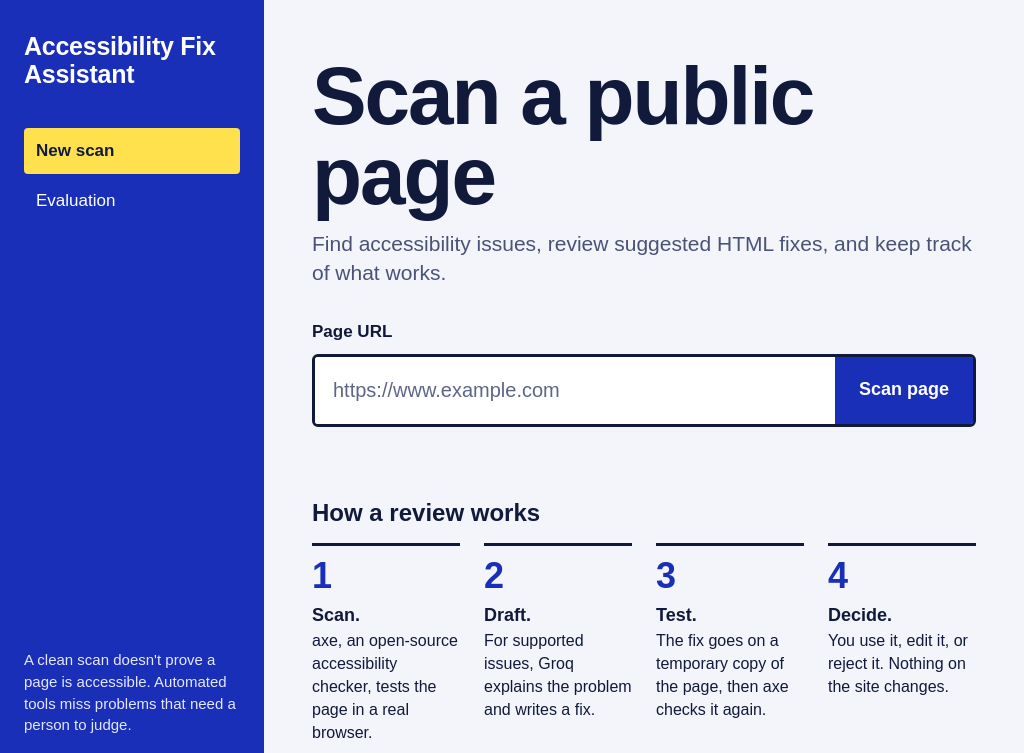
Test: new scan › shows the API's error for a blocked URL
Type "http://localhost:8000" into the field labelled "Page URL".
click(575, 390); type("http://localhost:8000")  # box [315,357,835,424]
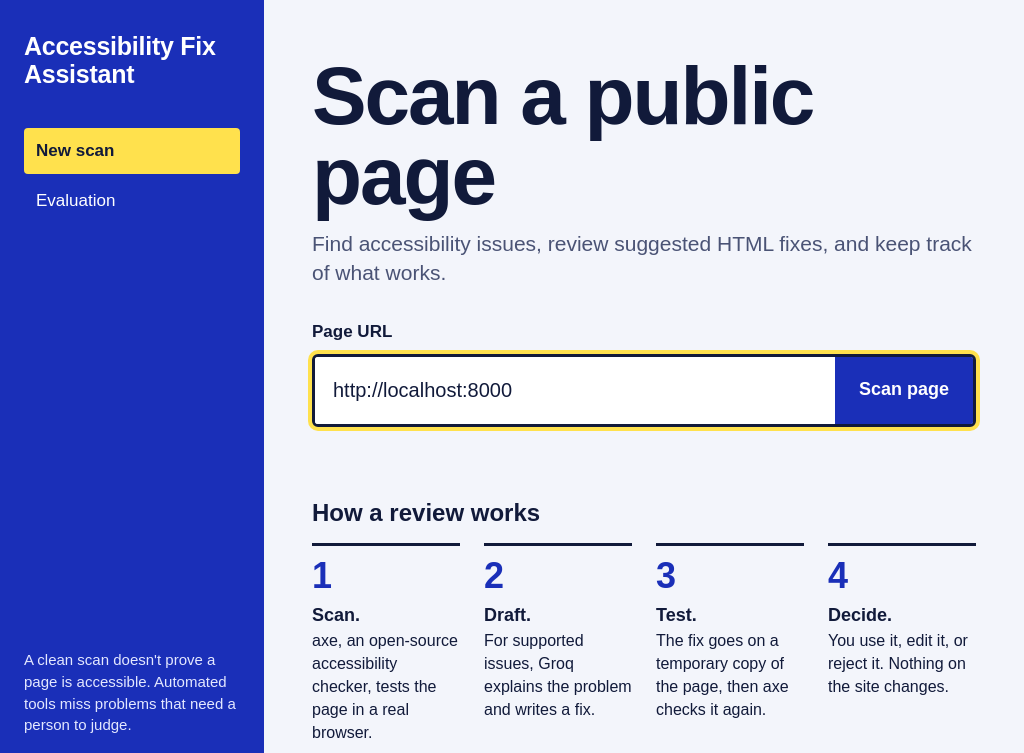
Click the button "Scan page".
click(904, 390)  # box [835,357,973,424]
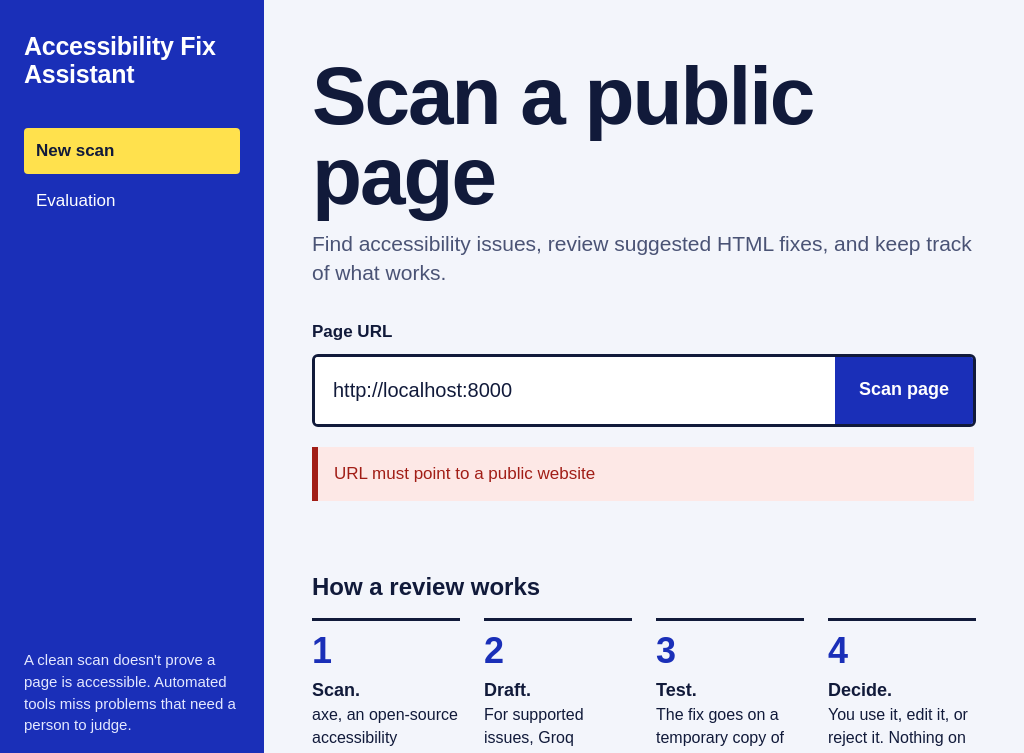
Now the message shows "public website", box [334,464,595,483]
